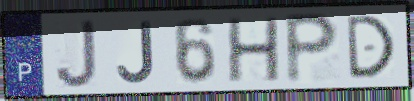6: (171, 16, 218, 86)
D: (344, 13, 398, 81)
H: (225, 14, 284, 85)
J: (53, 18, 100, 90), (115, 19, 156, 85)
P: (282, 10, 342, 86)
